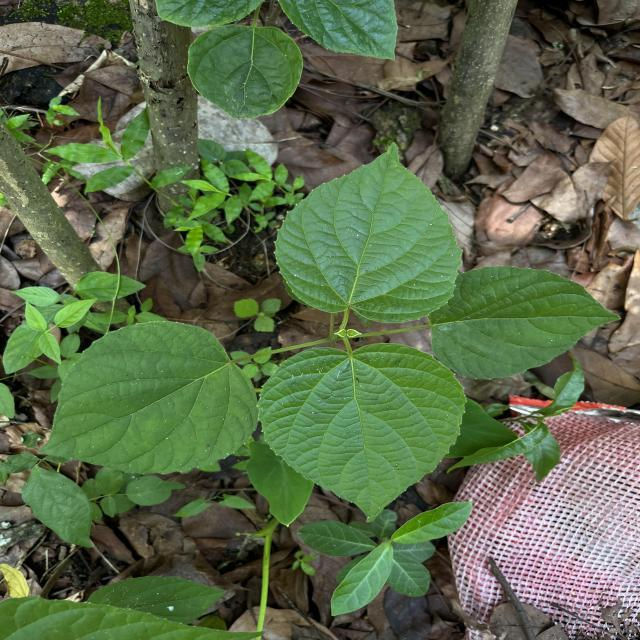Clerodendrum infortunatum: (256, 342, 468, 524), (36, 318, 260, 476), (272, 140, 463, 324), (428, 264, 624, 382)
